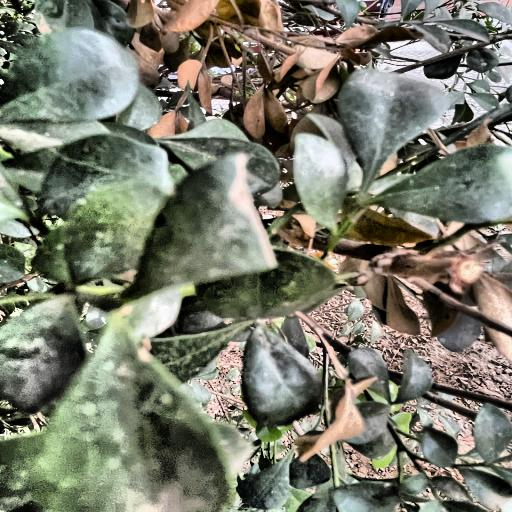la chay: (23, 120, 286, 500)
la heo: (128, 0, 370, 91)
